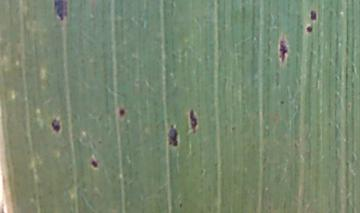tarspot: (187, 107, 200, 134), (278, 30, 288, 64), (166, 123, 179, 148), (53, 1, 69, 21), (50, 118, 63, 133), (309, 8, 318, 22), (274, 70, 281, 88), (90, 158, 99, 169), (305, 24, 314, 34), (117, 107, 125, 116), (278, 98, 286, 107), (326, 120, 333, 129), (198, 168, 205, 177), (79, 57, 85, 66), (230, 125, 237, 132), (212, 161, 218, 169), (96, 139, 103, 145), (1, 205, 6, 213), (178, 202, 183, 210)
